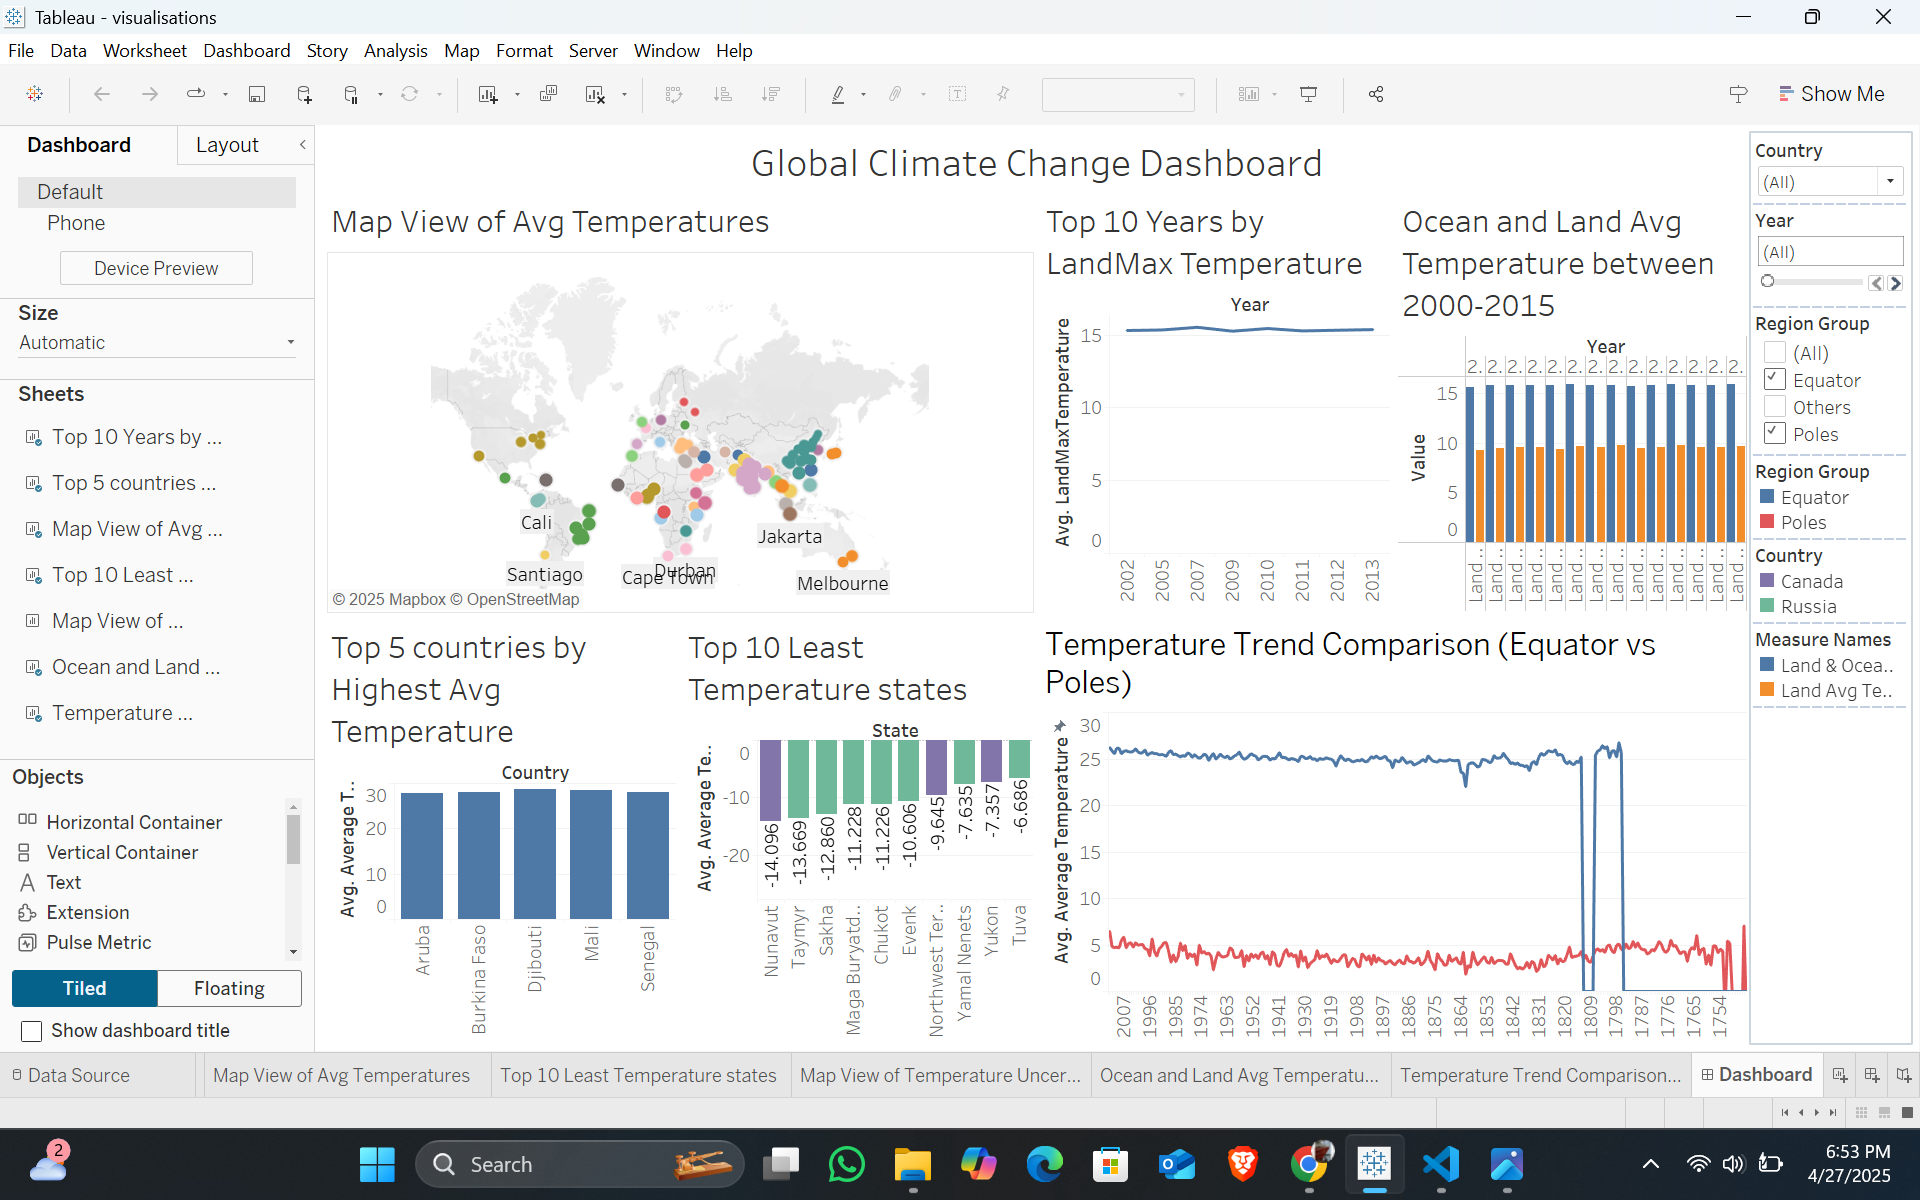

What the dashboard file says about the page in this screenshot:
{"tool":"tableau","page":{"name":"Dashboard","canvas":[1000,1000],"units":"permille","ordinal":0},"visuals":[{"type":"title","box":[6.4,11.8,858.4,61.9]},{"type":"filter","title":"Map View of Avg Temperatures","param":"[federated.12xjl841cpm85217dwvrp06gvq57].[none:Country:nk]","box":[864.8,11.8,128.7,76.6]},{"type":"worksheet","title":"Map View of Avg Temperatures","mark":"Automatic","box":[6.4,73.6,429.6,457.3]},{"type":"worksheet","title":"Top 10 Years by LandMax Temperature ","mark":"Line","rows":["LandMaxTemperature"],"cols":["Calculation_4389320853055512576"],"box":[436,73.6,214.2,457.3]},{"type":"worksheet","title":"Ocean and Land Avg Temperature between 2000-2015","mark":"Automatic","cols":["Calculation_4389320853055512576"],"box":[650.2,73.6,214.6,457.3]},{"type":"filter","title":"Temperature Trend Comparison (Equator vs Poles)","param":"[federated.0c62br30ir82zh1aagrro1juhm4a].[none:Calculation_338966244223864836:nk","box":[864.8,88.4,128.7,110.5]},{"type":"filter","title":"Temperature Trend Comparison (Equator vs Poles)","param":"[federated.0c62br30ir82zh1aagrro1juhm4a].[none:Calculation_338966244214644736:nk","box":[864.8,198.8,128.7,159.1]},{"type":"legend","title":"Temperature Trend Comparison (Equator vs Poles)","param":"[federated.0c62br30ir82zh1aagrro1juhm4a].[none:Calculation_338966244214644736:nk","box":[864.8,357.9,128.7,97.2]},{"type":"legend","title":"Top 10 Least Temperature states","param":"[federated.1sehzob13156d00zvvbcl0eyu79t].[none:Country:nk]","box":[864.8,455.1,128.7,97.2]},{"type":"worksheet","title":"Top 5 countries by Highest Avg Temperature","mark":"Automatic","rows":["AverageTemperature"],"cols":["Country"],"box":[6.4,530.9,214.6,457.3]},{"type":"worksheet","title":"Top 10 Least Temperature states","mark":"Automatic","rows":["AverageTemperature"],"cols":["State"],"box":[221,530.9,214.6,457.3]},{"type":"worksheet","title":"Temperature Trend Comparison (Equator vs Poles)","mark":"Line","rows":["AverageTemperature"],"cols":["Calculation_338966244217769986"],"box":[435.6,530.9,429.2,457.3]},{"type":"legend","title":"Ocean and Land Avg Temperature between 2000-2015","param":"[federated.10oq7em1yprnnv14x3q5y135be0u].[:Measure Names]","box":[864.8,552.3,128.7,97.2]}]}

Visuals, with their boxes on the dashboard's canvas, which has no fixed pixel size, in thousandths of its width and height (x1, y1, x2, y2). These are canvas units, not pixel positions in the 1920x1200 screenshot, which may show the page scaled, cropped or inside an application window:
title: select_region(6, 12, 865, 74)
"Map View of Avg Temperatures" filter: select_region(865, 12, 994, 88)
"Map View of Avg Temperatures" worksheet: select_region(6, 74, 436, 531)
"Top 10 Years by LandMax Temperature " worksheet (Line marks): select_region(436, 74, 650, 531)
"Ocean and Land Avg Temperature between 2000-2015" worksheet: select_region(650, 74, 865, 531)
"Temperature Trend Comparison (Equator vs Poles)" filter: select_region(865, 88, 994, 199)
"Temperature Trend Comparison (Equator vs Poles)" filter: select_region(865, 199, 994, 358)
"Temperature Trend Comparison (Equator vs Poles)" legend: select_region(865, 358, 994, 455)
"Top 10 Least Temperature states" legend: select_region(865, 455, 994, 552)
"Top 5 countries by Highest Avg Temperature" worksheet: select_region(6, 531, 221, 988)
"Top 10 Least Temperature states" worksheet: select_region(221, 531, 436, 988)
"Temperature Trend Comparison (Equator vs Poles)" worksheet (Line marks): select_region(436, 531, 865, 988)
"Ocean and Land Avg Temperature between 2000-2015" legend: select_region(865, 552, 994, 650)
